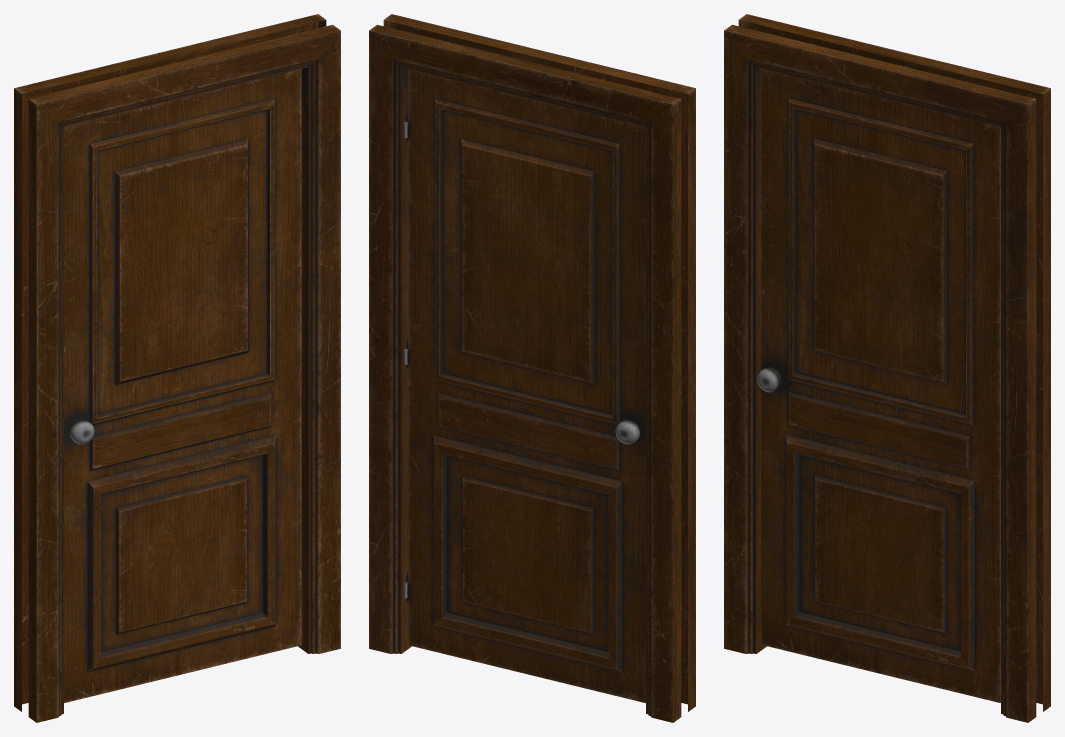
File: Door.glb
The picture shows the model from 3 angles, left to right: view 1: azimuth 30°, elevation 25°; view 2: azimuth 150°, elevation 25°; view 3: azimuth 330°, elevation 25°; orthographic projection.
Parts seen in each view (by area): view 1: Door_M, Frame; view 2: Door_M, Frame; view 3: Door_M, Frame.
Boxes of the visible parts, x1,y1,x2,y2 form: Door_M: (64, 69, 301, 702); Frame: (14, 14, 340, 722); Door_M: (408, 69, 645, 702); Frame: (369, 14, 695, 722); Door_M: (760, 68, 1000, 702); Frame: (724, 14, 1050, 722).
Size of the model in its own units: 1.09 by 2.11 by 0.1935.
Materials: 2 (2 with a texture image).
